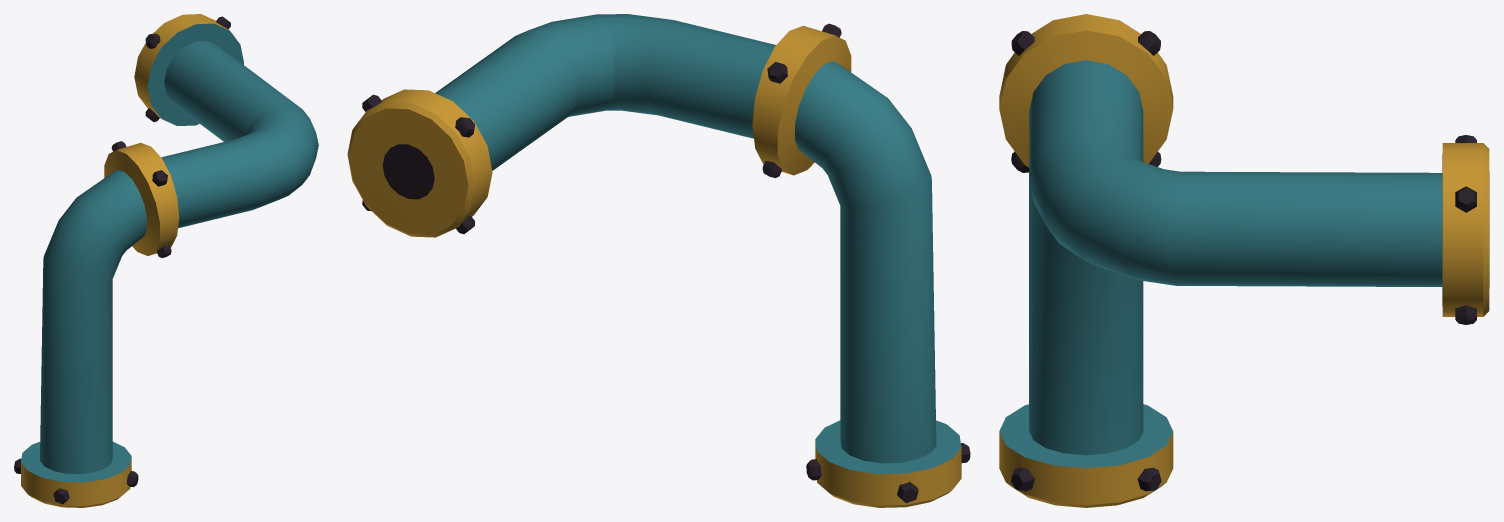
File: PipeRun_06.glb
The picture shows the model from 3 angles, left to right: view 1: azimuth 30°, elevation 25°; view 2: azimuth 150°, elevation 25°; view 3: azimuth 270°, elevation 25°; orthographic projection. The views are drawn at different scales.
Parts seen in each view (by area): view 1: PipeRun_06; view 2: PipeRun_06; view 3: PipeRun_06.
Boxes of the visible parts, box(x1,y1,x2,y2) form: PipeRun_06: box(14, 14, 318, 507); PipeRun_06: box(347, 14, 970, 507); PipeRun_06: box(999, 14, 1489, 507).
Size of the model in its own units: 3.79 by 3.52 by 3.12.
